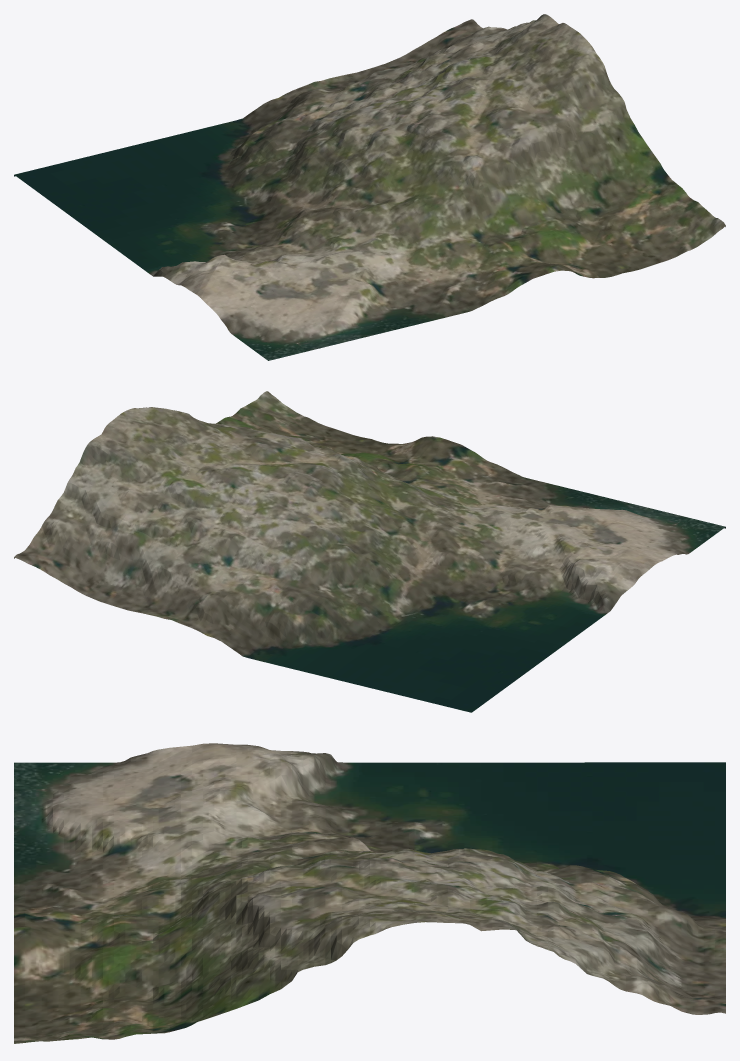
The picture shows the model from 3 angles, top to bottom: view 1: azimuth 30°, elevation 25°; view 2: azimuth 150°, elevation 25°; view 3: azimuth 270°, elevation 25°; orthographic projection. The views are drawn at different scales.
Bounding box in the file's own units: 250 × 58.09 × 241.
Materials: 1 (1 with a texture image).
